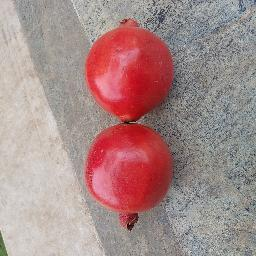Good_pomegranate: (78, 13, 177, 120), (86, 125, 176, 232)
